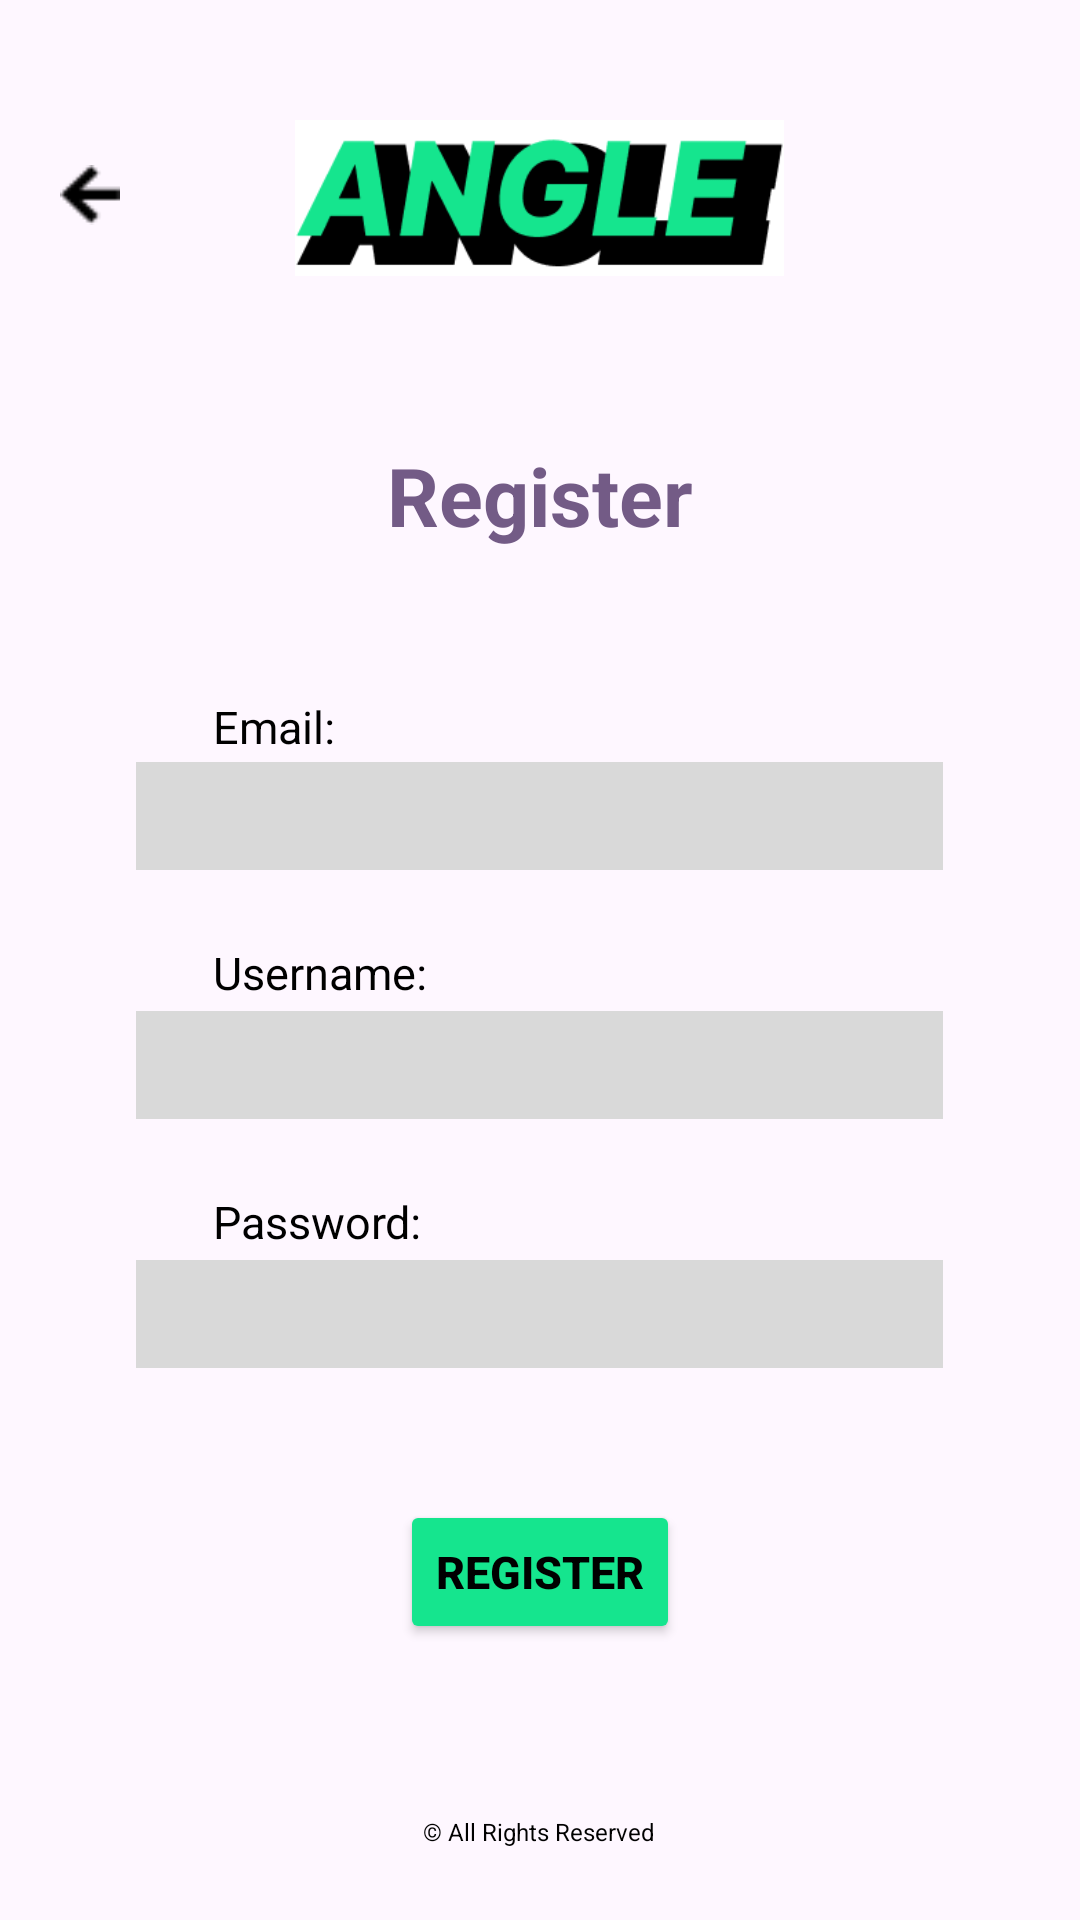

Where to tap for icons on this 1080x1920 app screen, as point (x, y):
arrow: point (90, 194)
